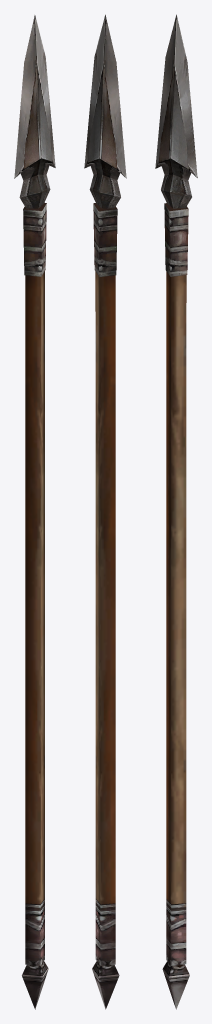
File: Spear-01.FBX
The picture shows the model from 3 angles, left to right: view 1: azimuth 30°, elevation 25°; view 2: azimuth 150°, elevation 25°; view 3: azimuth 330°, elevation 25°; orthographic projection.
Visible parts, largest first — view 1: \; view 2: \; view 3: \.
Boxes of the visible parts, x1,y1,x2,y2 form: \: (14, 15, 55, 1009); \: (84, 14, 126, 1009); \: (155, 14, 197, 1009).
Size of the model in its own units: 27.16 by 617 by 16.61.
